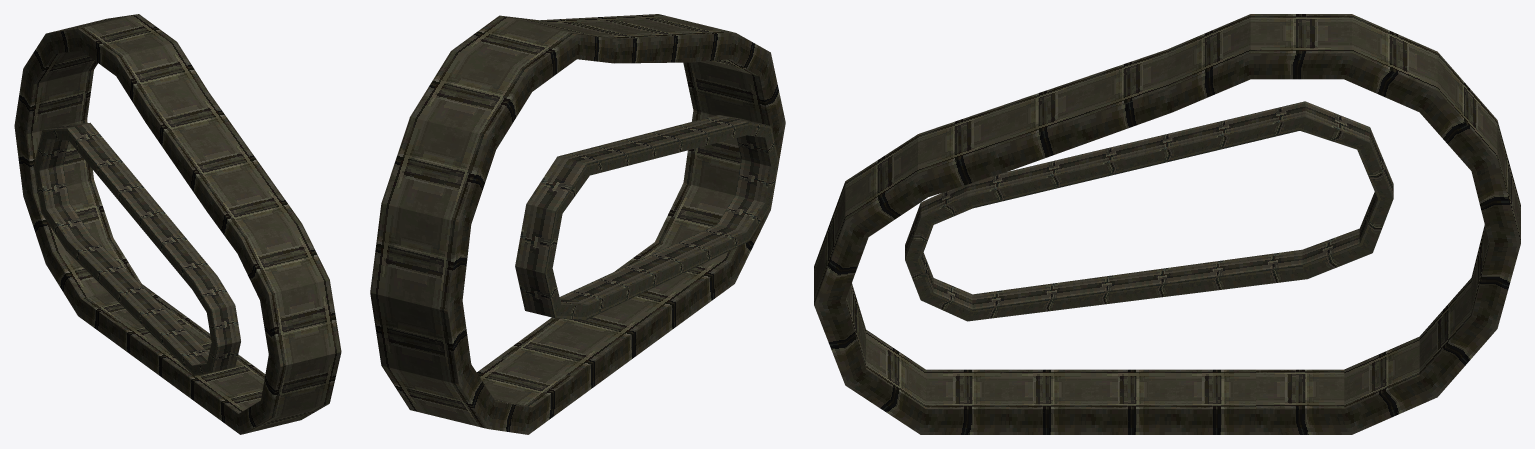
File: VTRECOH_TRAC_R.obj
3 renders of one model, left to right at view 1: azimuth 30°, elevation 25°; view 2: azimuth 150°, elevation 25°; view 3: azimuth 270°, elevation 25°, orthographic. The views are drawn at different scales.
Visible parts, largest first — view 1: Node 0; view 2: Node 0; view 3: Node 0.
Boxes of the visible parts, x1,y1,x2,y2 form: Node 0: (14, 14, 341, 434); Node 0: (370, 14, 785, 434); Node 0: (814, 14, 1520, 434).
Bounding box in the file's own units: 0.53 × 1.62 × 2.72.
1 material, 1 textured.
